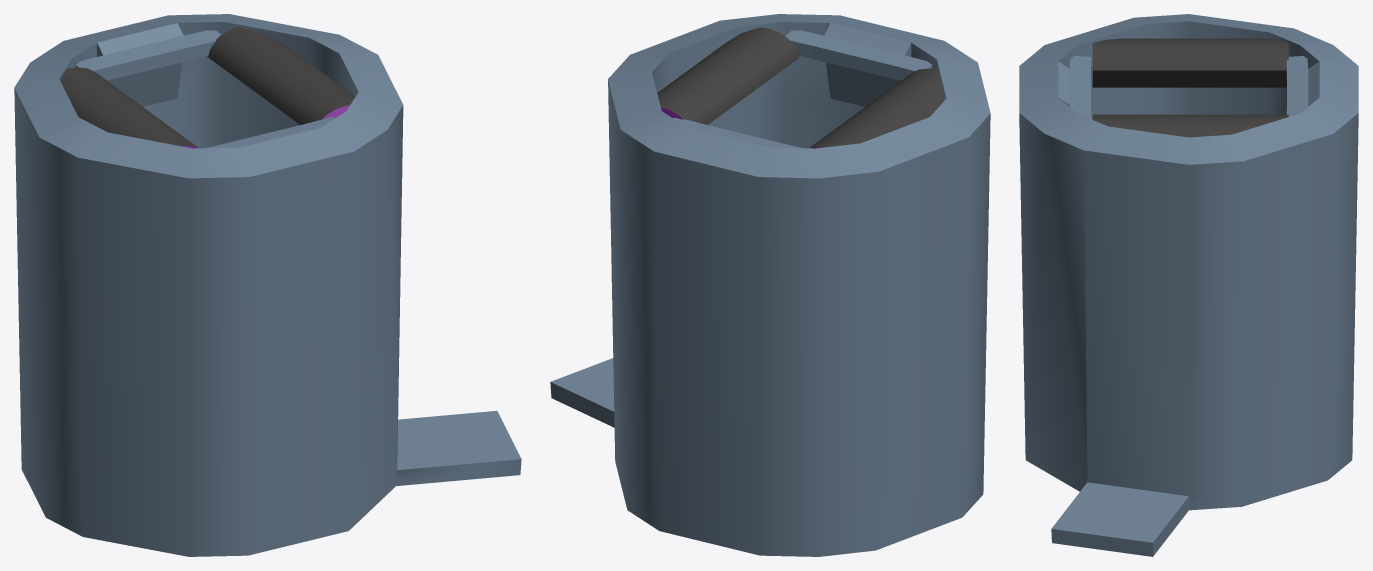
File: mop_buck.fbx
3 renders of one model, left to right at view 1: azimuth 30°, elevation 25°; view 2: azimuth 150°, elevation 25°; view 3: azimuth 270°, elevation 25°, orthographic. The views are drawn at different scales.
Visible parts, largest first — view 1: mop_bucket; view 2: mop_bucket; view 3: mop_bucket.
Boxes of the visible parts, x1,y1,x2,y2 form: mop_bucket: (14, 14, 521, 556); mop_bucket: (550, 14, 990, 556); mop_bucket: (1019, 14, 1358, 556).
Bounding box in the file's own units: 48.15 × 41.24 × 35.41.
